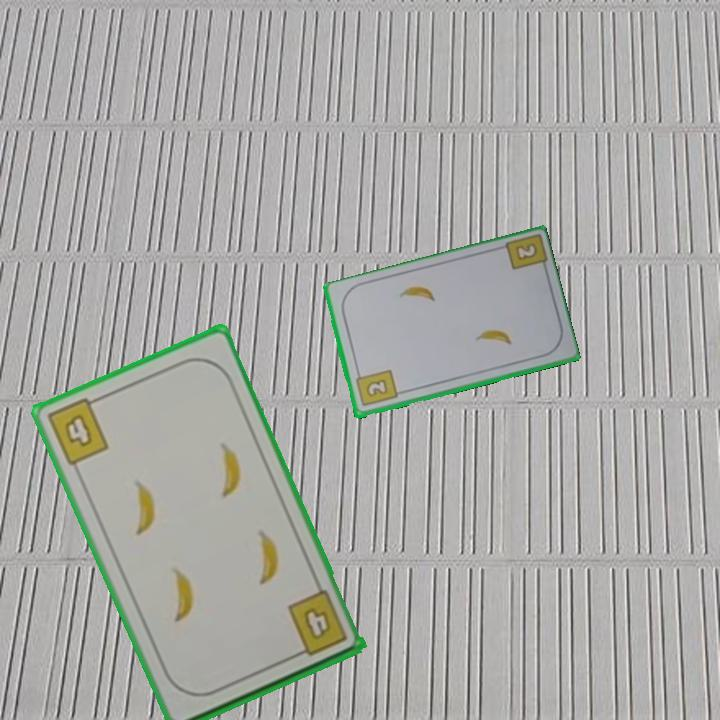2b: (352, 366, 400, 410), (512, 239, 540, 264)
4b: (42, 392, 112, 468), (283, 586, 351, 660)
